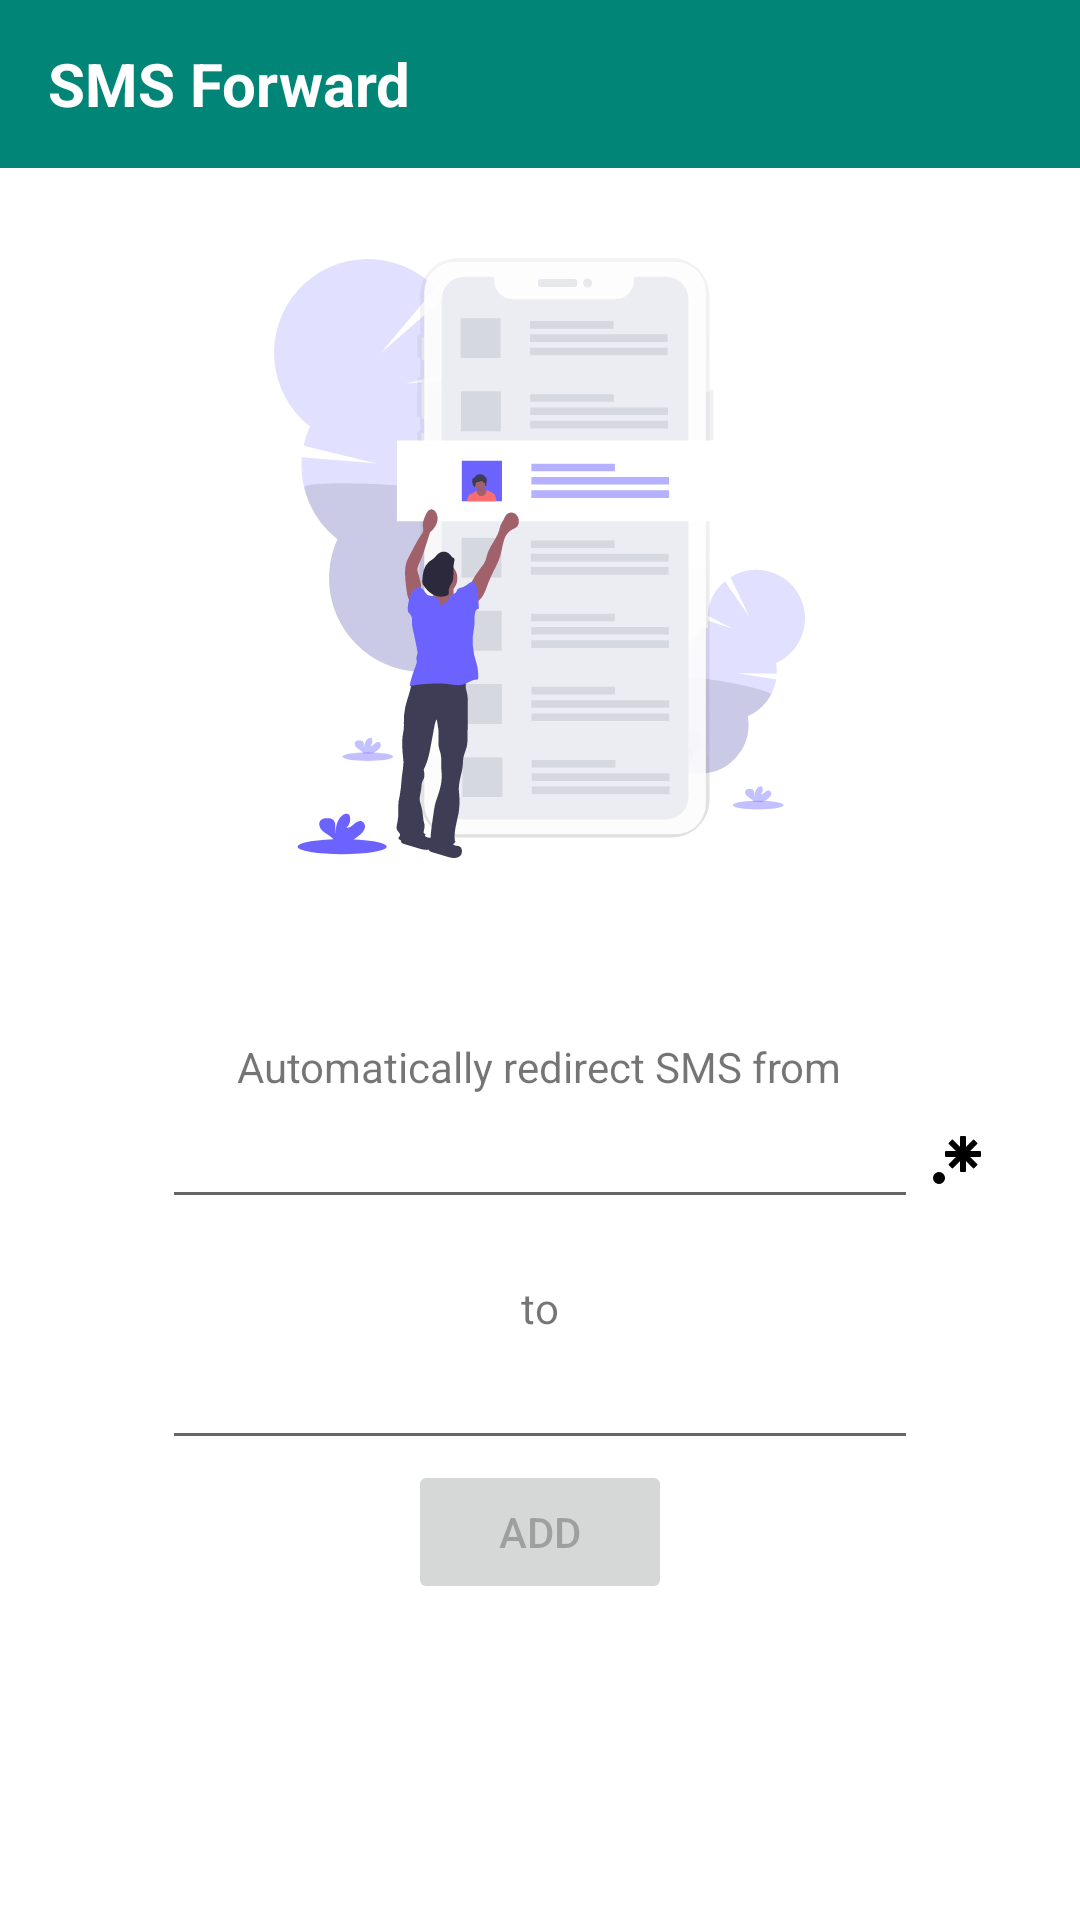

Where to tap for icons on this 1080 x 1920 app screen, as point (x, y):
Enable regex mode: point (957, 1160)
